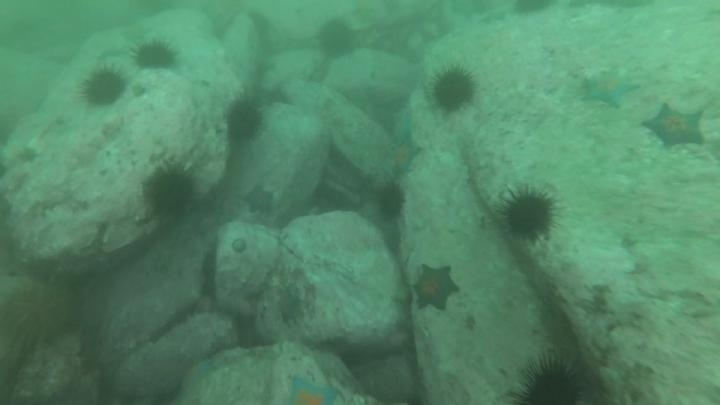echinus: (510, 354, 590, 405), (498, 185, 561, 244), (141, 160, 200, 221), (428, 64, 478, 115), (79, 65, 128, 109), (223, 96, 266, 146), (315, 17, 358, 60), (131, 37, 180, 74), (374, 181, 408, 222), (510, 0, 556, 20)
starfish: (640, 101, 707, 151), (410, 262, 461, 313), (580, 68, 640, 110), (175, 355, 219, 403), (382, 130, 424, 180), (282, 373, 341, 403), (274, 284, 306, 327), (242, 183, 278, 217), (94, 43, 131, 62)
